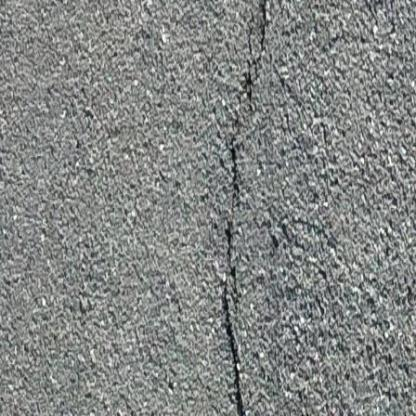Cracks: (217, 0, 287, 416)
